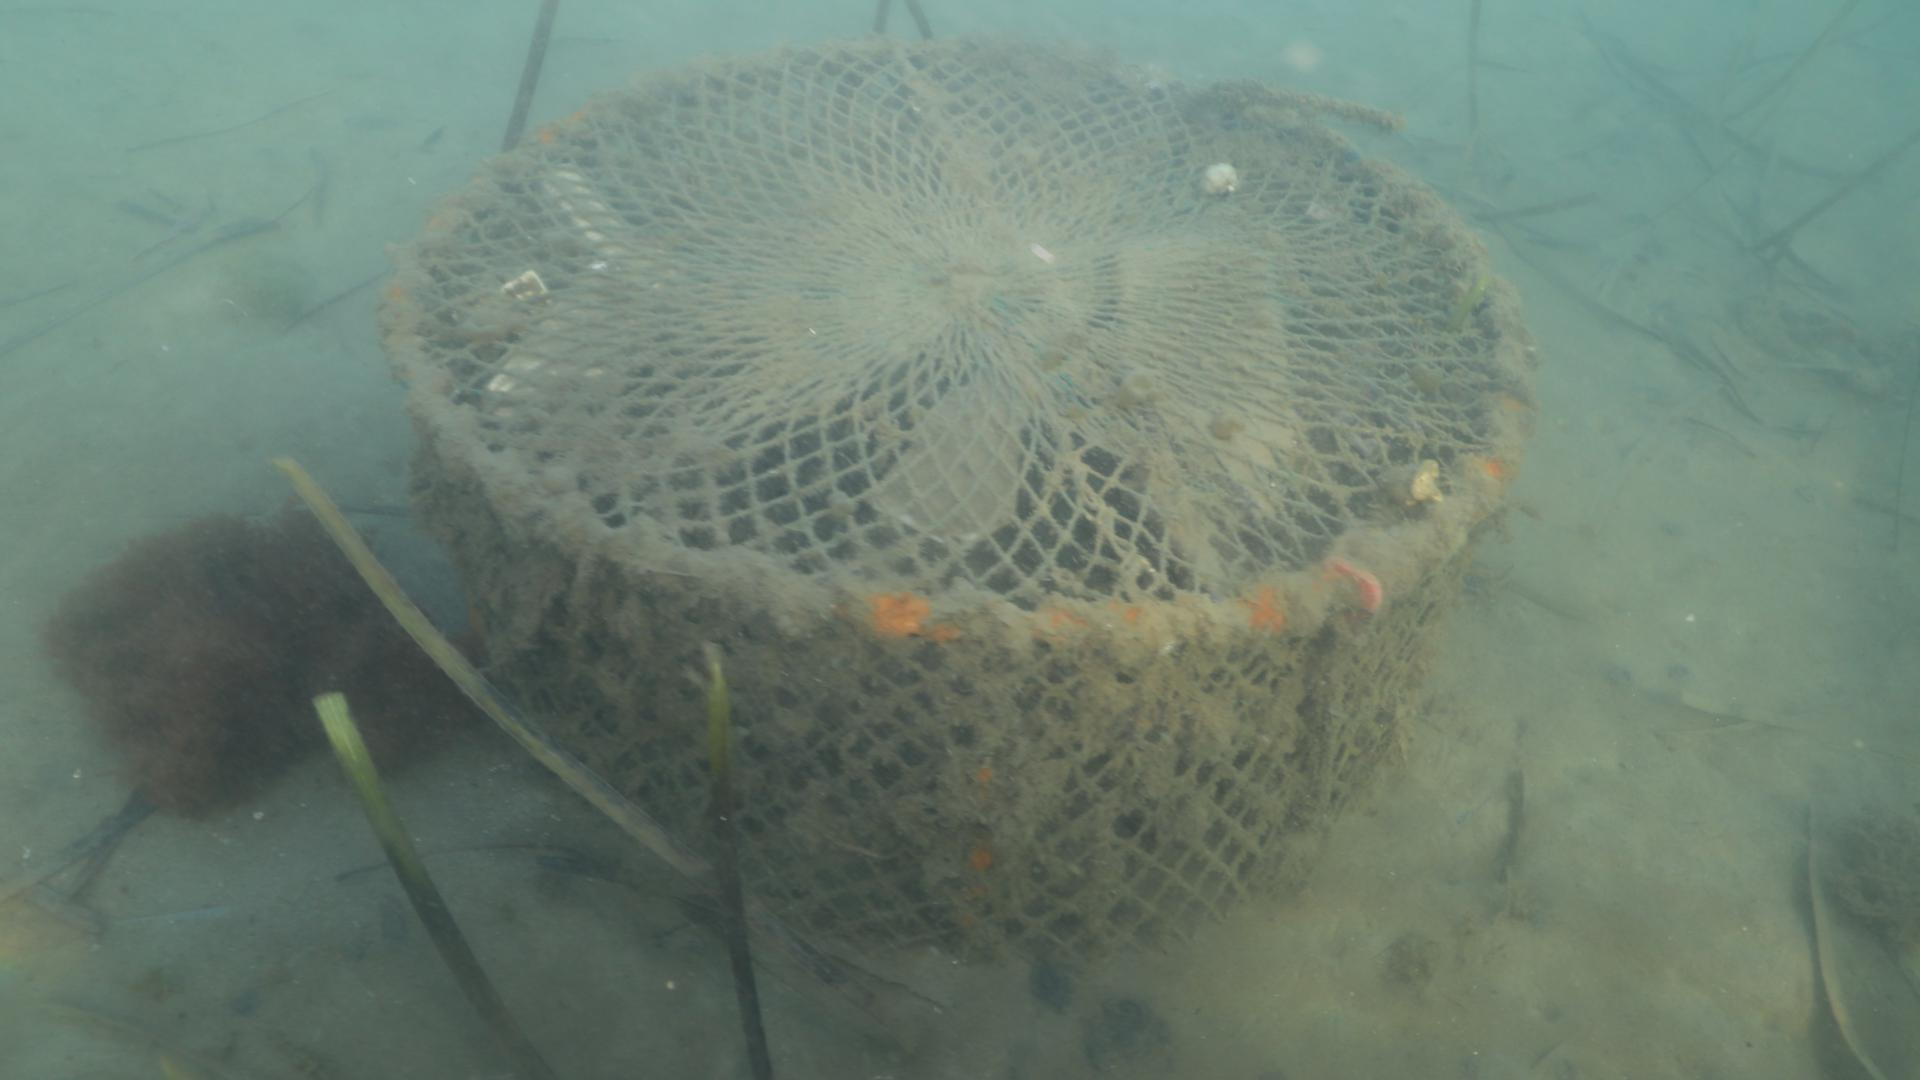circular fish trap: (378, 36, 1534, 965)
